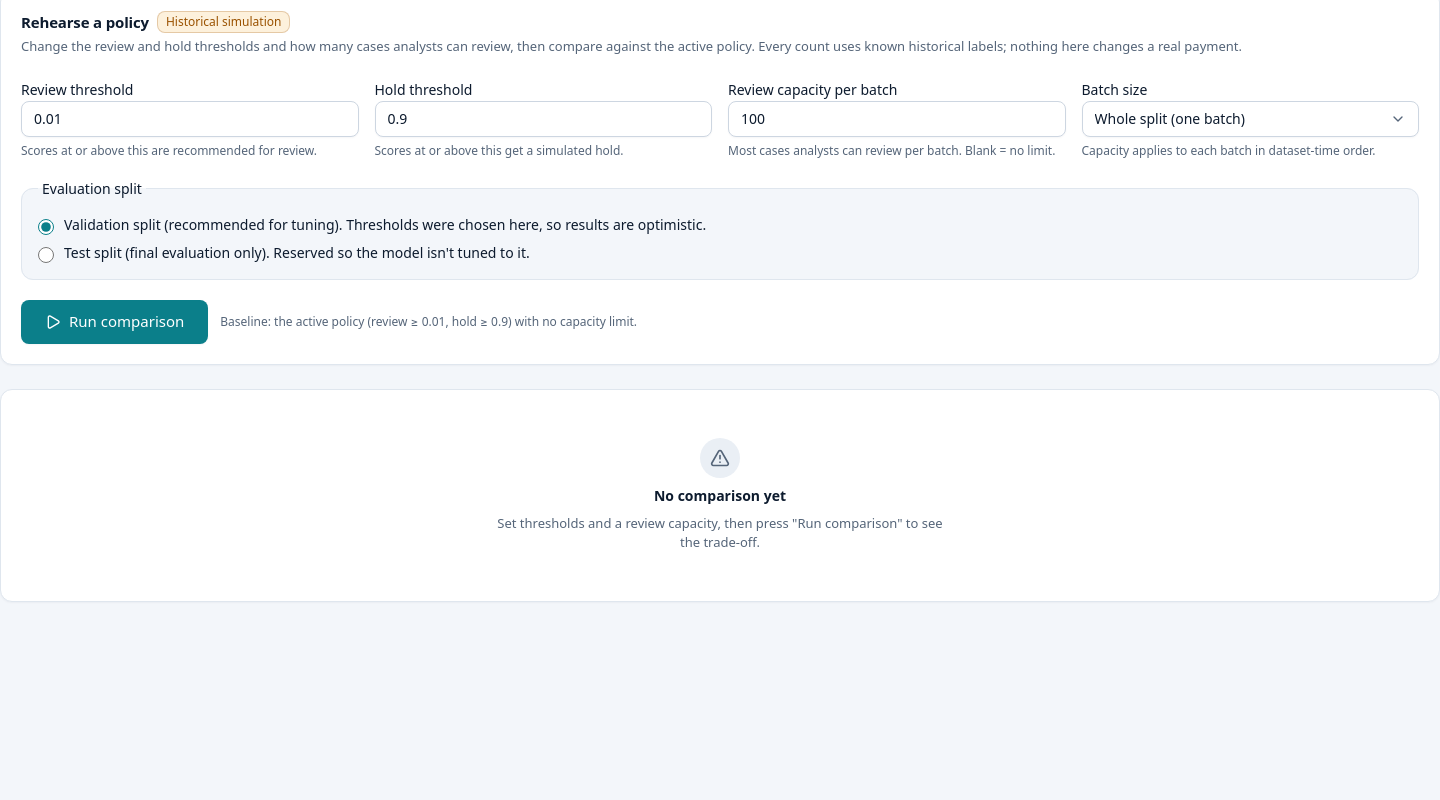
Test case: PolicyRehearsal › runs baseline vs proposed on the validation split and explains overflow honestly
Expected: the field labelled "Review threshold" holds "0.01", [21,100,358,136]
Replace the text in the field labelled "Review capacity per batch" with "10" at (897, 118), box [728,100,1066,136]
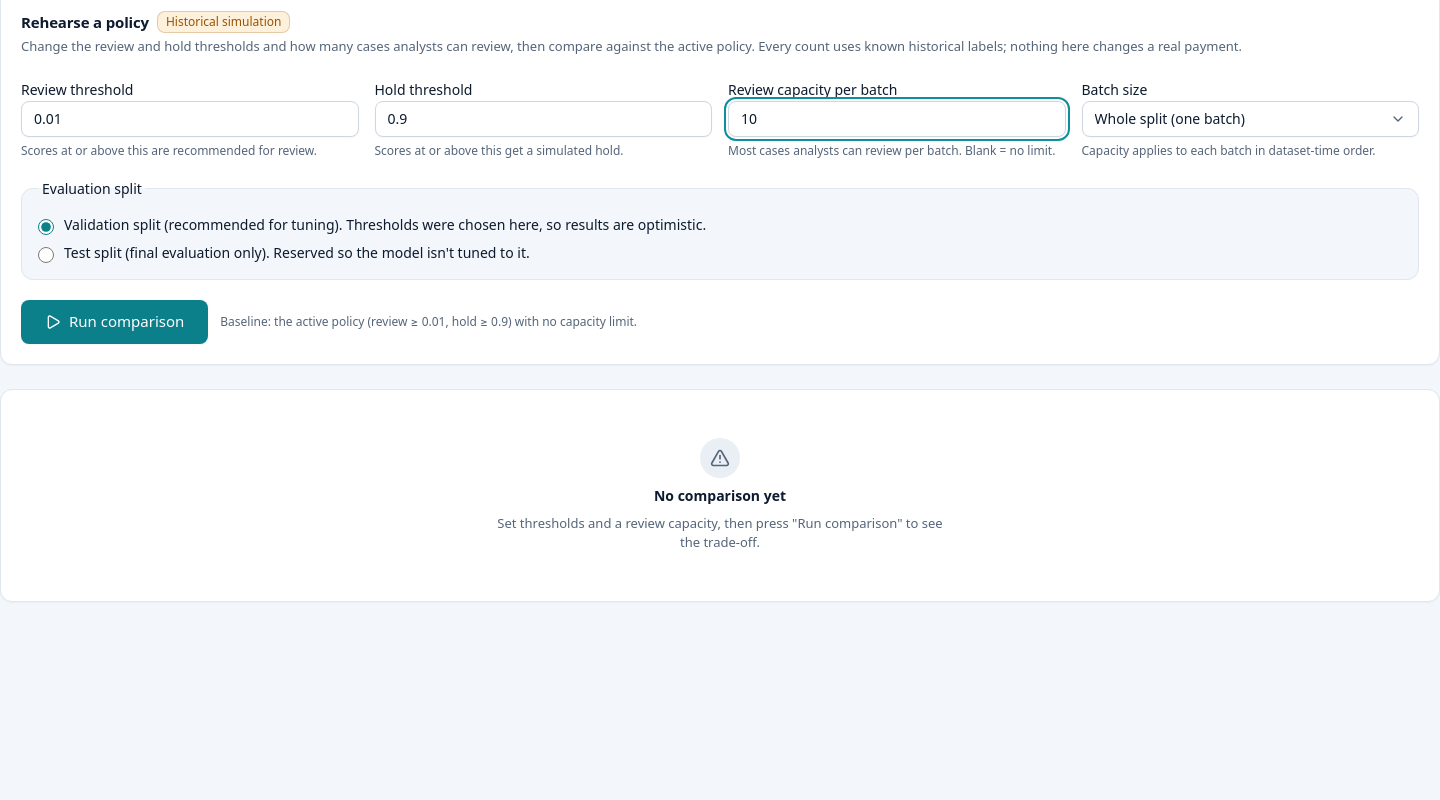
Click the button "Run comparison" at (115, 322), box [21,300,208,344]
(page scrolled)
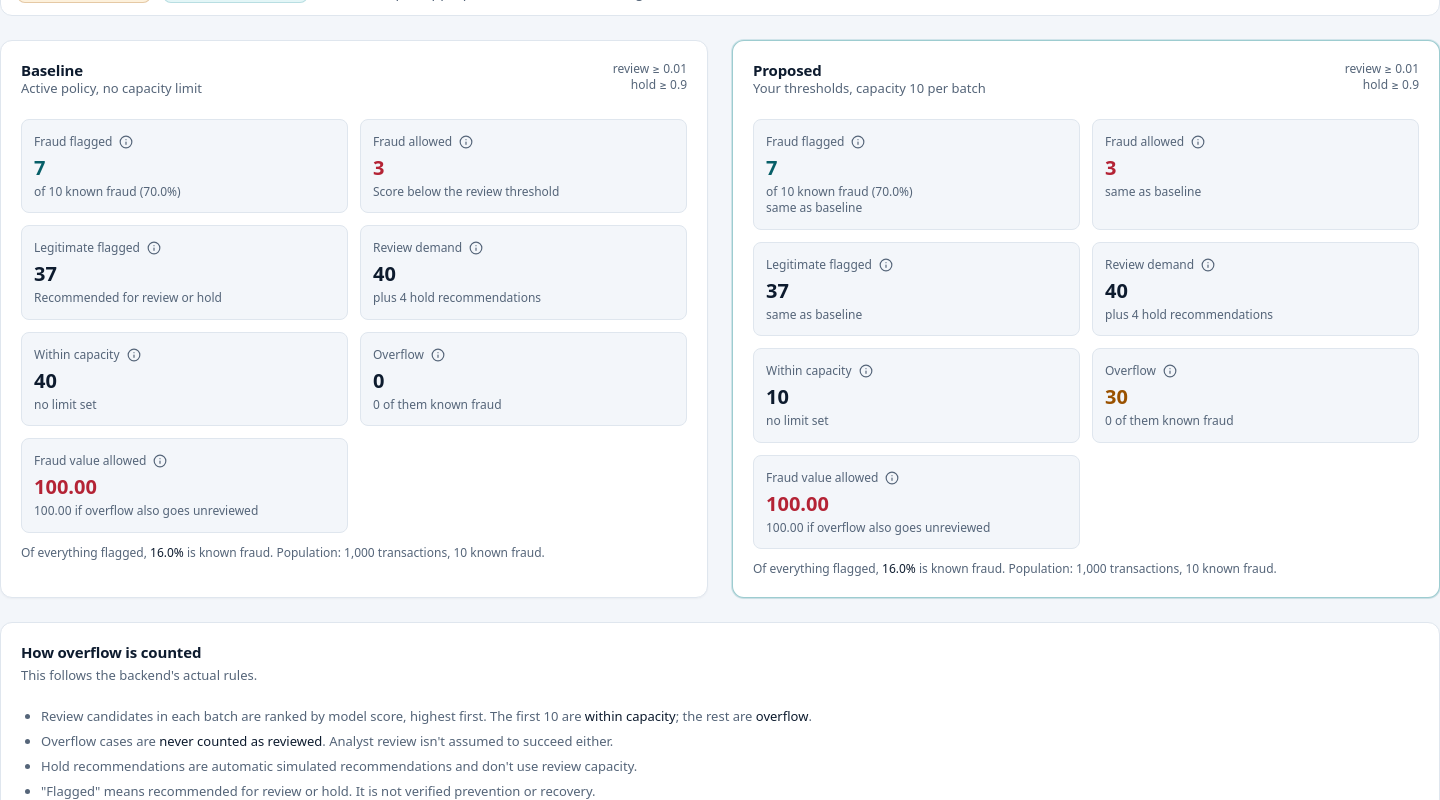
Expected: the heading "Baseline" is shown, [21,60,83,80]
Expected: the heading "Proposed" is shown, [753,60,822,80]
Expected: the text "never counted as reviewed" is shown, [159,732,322,750]
